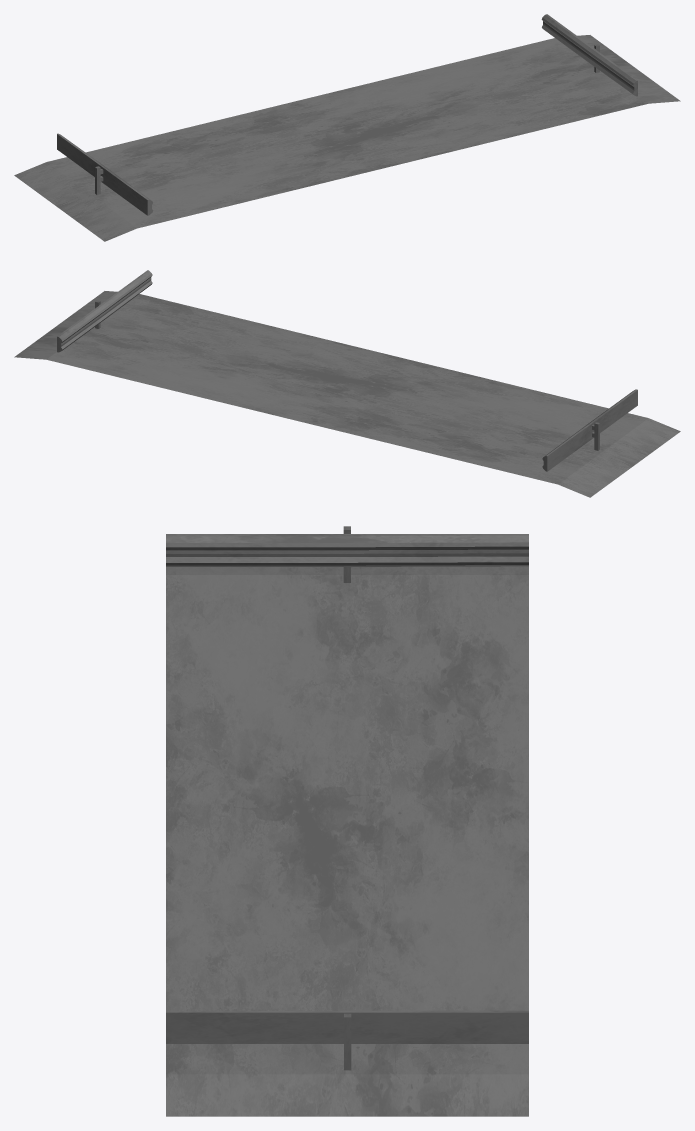
The model's file is RoadAsphalt.glb.
3 views of the same model, one above another, from view 1: azimuth 30°, elevation 25°; view 2: azimuth 150°, elevation 25°; view 3: azimuth 270°, elevation 25° (orthographic). The views are drawn at different scales.
Parts seen in each view (by area): view 1: Road; view 2: Road; view 3: Road.
Part boxes in pixels (<box>): Road: <box>14,14,680,241</box>; Road: <box>14,270,680,497</box>; Road: <box>166,526,528,1116</box>.
Size of the model in its own units: 7.33 by 0.3883 by 2.
1 material, 1 textured.
